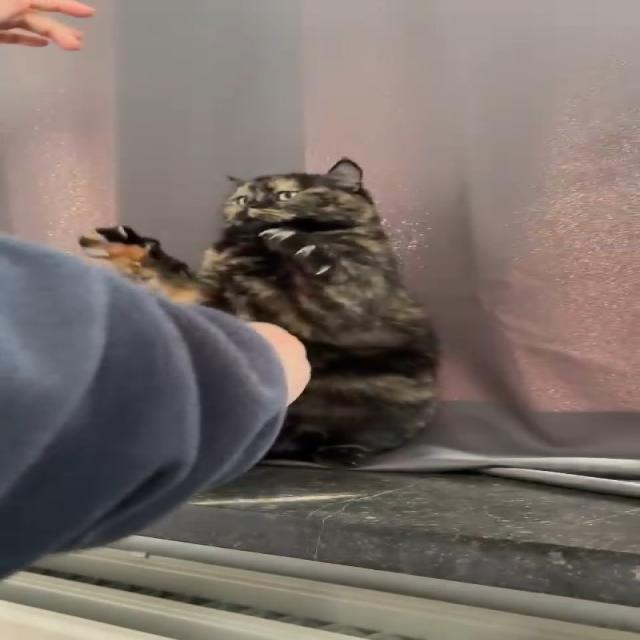authorized: (77, 156, 443, 468)
